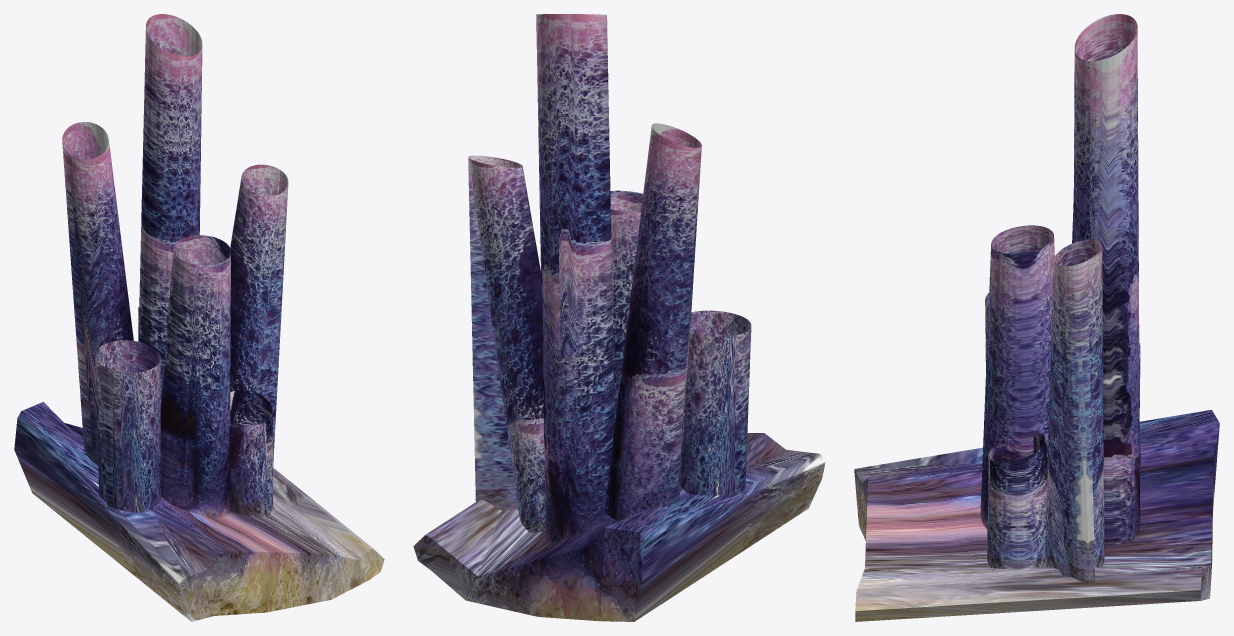
File: rock_again1.obj
3 views of the same model, side by side, from view 1: azimuth 30°, elevation 25°; view 2: azimuth 150°, elevation 25°; view 3: azimuth 270°, elevation 25° (orthographic). The views are drawn at different scales.
Visible parts, largest first — view 1: Torus.002; view 2: Torus.002; view 3: Torus.002.
Part boxes in pixels (left/top/right/bottom): Torus.002: left=14, top=14, right=384, bottom=621; Torus.002: left=413, top=14, right=825, bottom=621; Torus.002: left=854, top=14, right=1219, bottom=621.
Size of the model in its own units: 2.02 by 4.65 by 2.71.
Materials: 1 (1 with a texture image).
